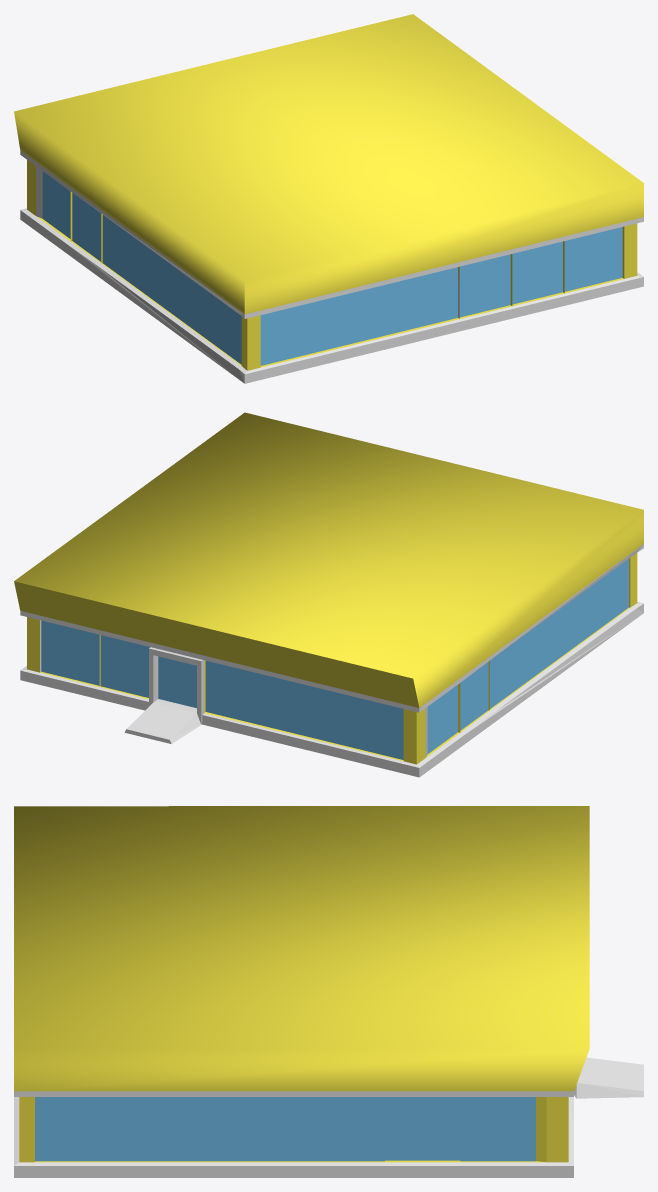
File: Shop8x8x1Yellow.fbx
3 renders of one model, top to bottom at view 1: azimuth 30°, elevation 25°; view 2: azimuth 150°, elevation 25°; view 3: azimuth 270°, elevation 25°, orthographic. The views are drawn at different scales.
Parts seen in each view (by area): view 1: Shop.001; view 2: Shop.001; view 3: Shop.001.
Part boxes in pixels (x1,y1,x2,y2): Shop.001: [14, 14, 643, 383]; Shop.001: [14, 412, 643, 777]; Shop.001: [14, 806, 643, 1177].
Bounding box in the file's own units: 4.02 × 0.9949 × 4.4.
Materials: 1 (1 with a texture image).
